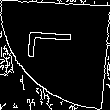L_E: (27, 37, 83, 73)
